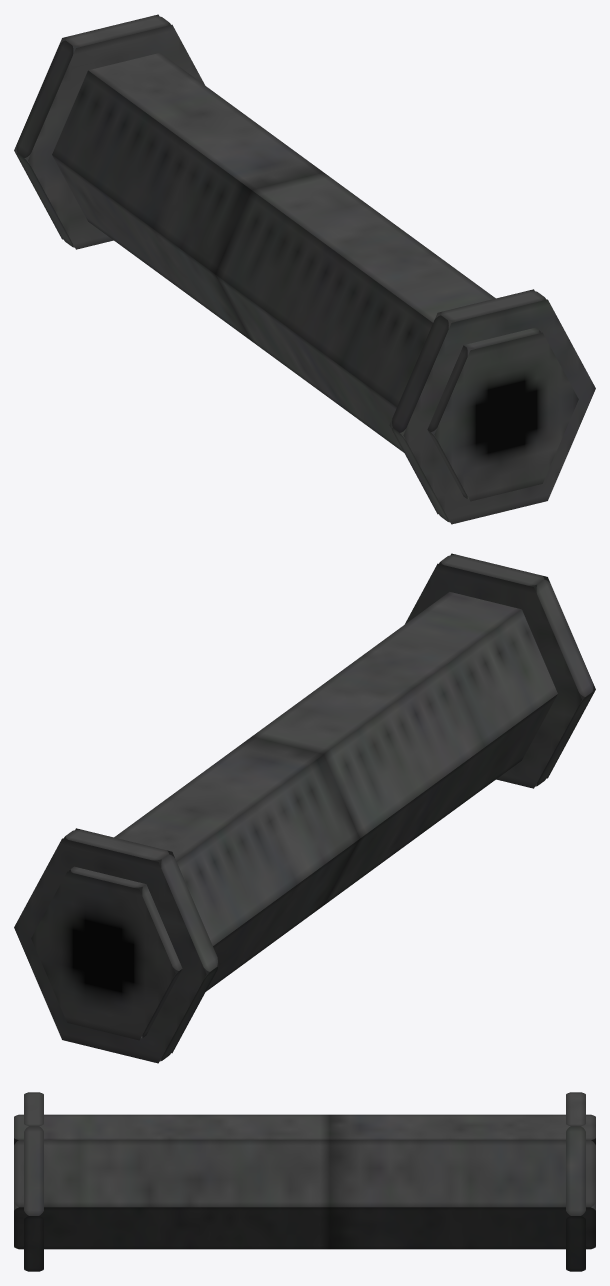
File: pipeA.fbx
The picture shows the model from 3 angles, top to bottom: view 1: azimuth 30°, elevation 25°; view 2: azimuth 150°, elevation 25°; view 3: azimuth 270°, elevation 25°; orthographic projection. The views are drawn at different scales.
Parts seen in each view (by area): view 1: kerCHING, southEnd, northEnd; view 2: kerCHING, northEnd, southEnd; view 3: kerCHING, southEnd, northEnd.
Part boxes in pixels (x1,y1,x2,y2): kerCHING: [52, 53, 578, 501]; southEnd: [389, 289, 595, 524]; northEnd: [14, 14, 204, 249]; kerCHING: [31, 592, 557, 1040]; northEnd: [14, 828, 220, 1063]; southEnd: [405, 553, 595, 788]; kerCHING: [14, 1114, 595, 1249]; southEnd: [24, 1092, 43, 1271]; northEnd: [566, 1092, 585, 1271].
Bounding box in the file's own units: 50 × 50 × 181.
1 material, 1 textured.
